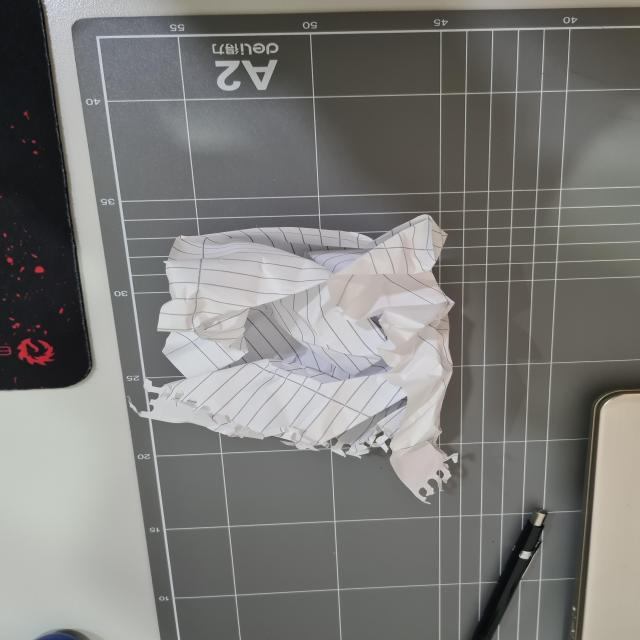kertas: (154, 210, 464, 497)
